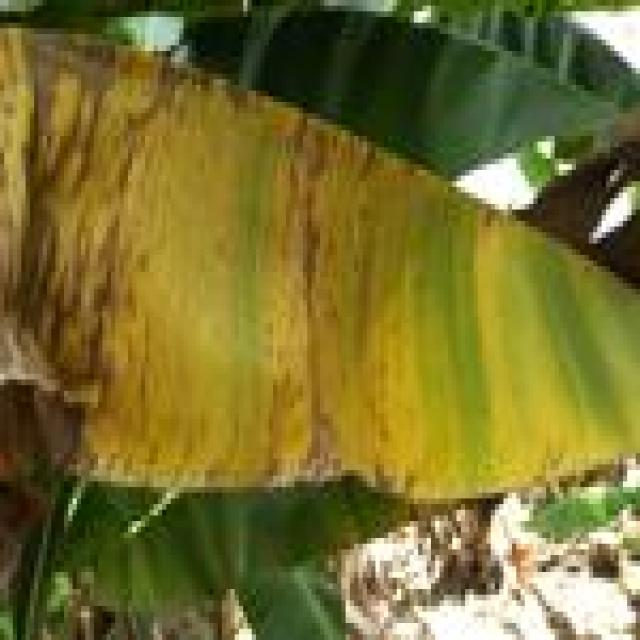Early_rust: (0, 0, 640, 510)
